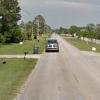Car: (42, 33, 67, 60)
